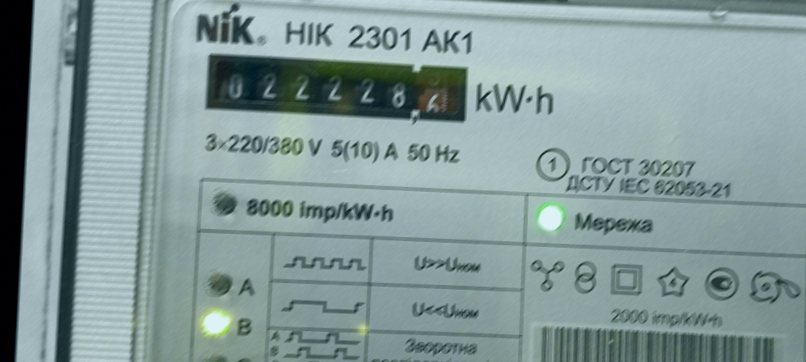0: (227, 71, 244, 100)
2: (260, 70, 280, 101), (359, 76, 378, 106), (294, 72, 311, 102), (326, 74, 344, 102)
5: (426, 67, 443, 88)
6: (425, 91, 442, 112)
8: (391, 80, 407, 109)
screen: (198, 42, 479, 132)
